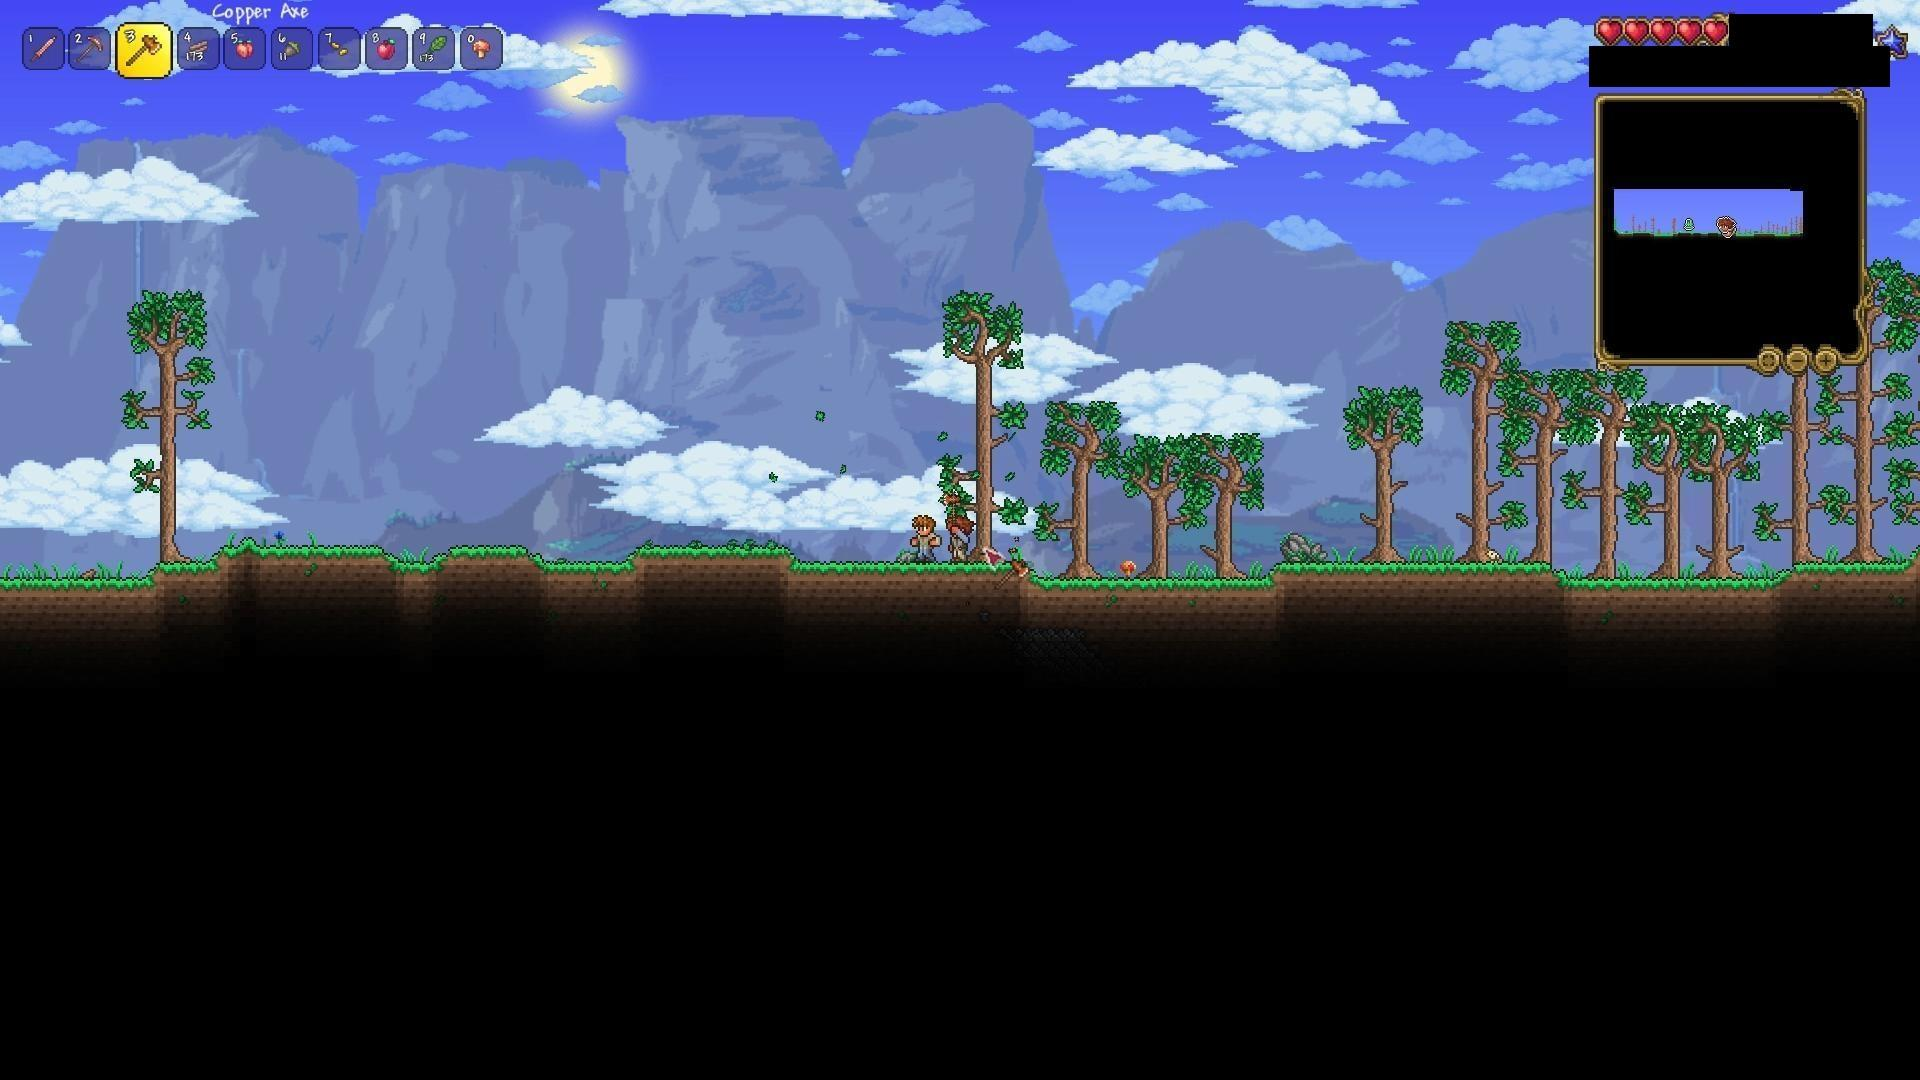dirt: (223, 534, 790, 574), (1548, 563, 1788, 620), (1006, 564, 1283, 612), (0, 546, 164, 613), (777, 554, 1029, 593), (1280, 554, 1563, 587), (1782, 556, 1920, 587), (152, 549, 233, 588)
heart: (1702, 17, 1733, 51), (1593, 16, 1626, 46), (1676, 15, 1704, 50), (1650, 16, 1676, 49), (1625, 15, 1651, 44)
tree: (117, 290, 215, 564), (934, 280, 1018, 556), (1445, 315, 1510, 558), (1040, 396, 1122, 585), (1346, 381, 1416, 562), (1845, 361, 1907, 563), (1182, 425, 1257, 580), (1691, 397, 1753, 582), (1585, 375, 1636, 580), (1520, 377, 1575, 564), (1780, 385, 1833, 564), (1642, 401, 1693, 576), (1125, 434, 1180, 583)
